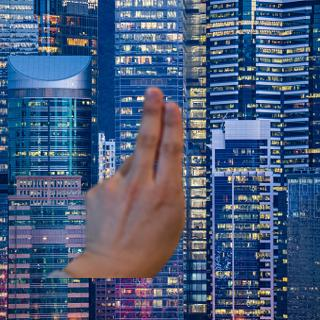DHAVE: (74, 81, 193, 273)
